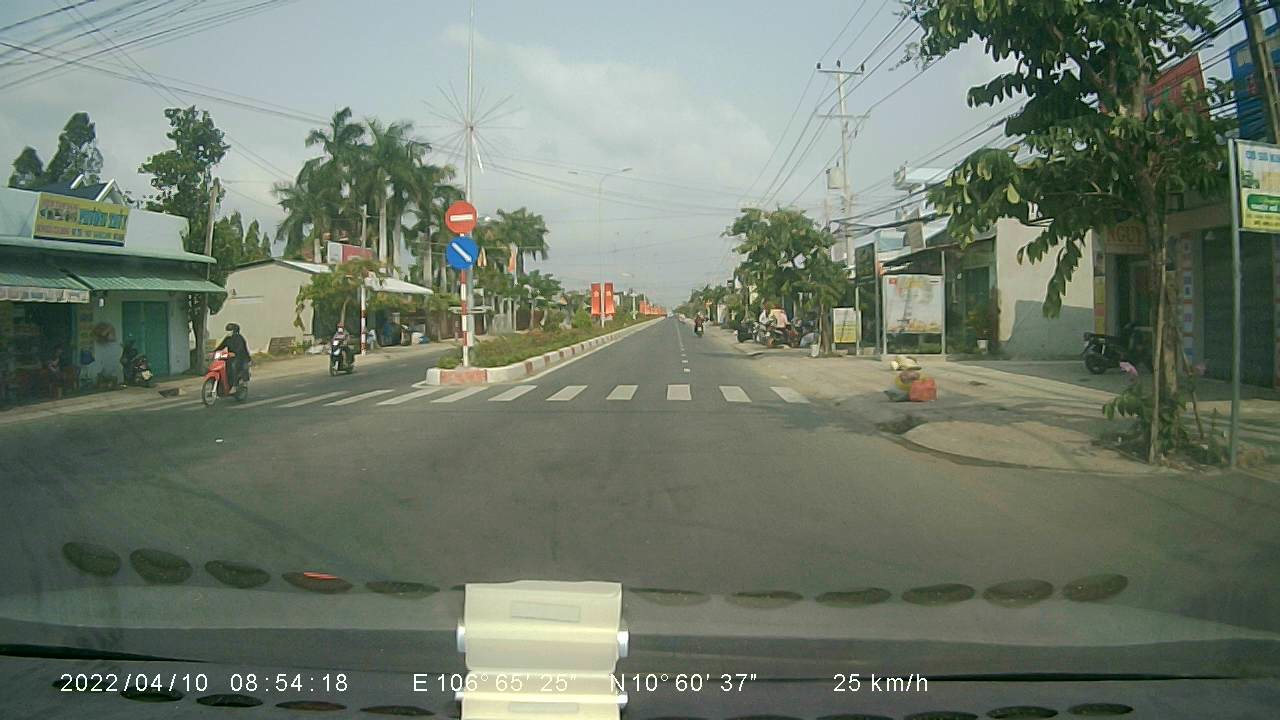Cam di nguoc chieu: (442, 196, 478, 233)
Huong di phai re phai: (441, 234, 479, 269)
